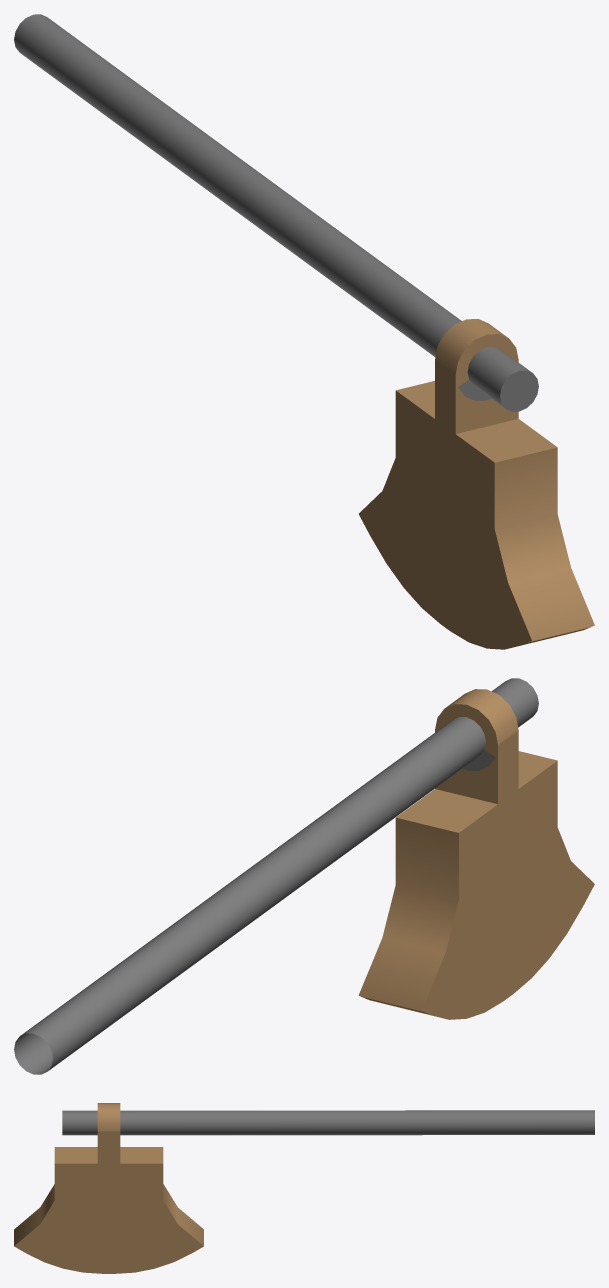
Rendered from axe_01.fbx.
3 views of the same model, one above another, from view 1: azimuth 30°, elevation 25°; view 2: azimuth 150°, elevation 25°; view 3: azimuth 270°, elevation 25° (orthographic). The views are drawn at different scales.
Visible parts, largest first — view 1: axe_01; view 2: axe_01; view 3: axe_01.
Part boxes in pixels (x1=…): axe_01: x1=14, y1=14, x2=594, y2=649; axe_01: x1=14, y1=678, x2=594, y2=1074; axe_01: x1=14, y1=1103, x2=594, y2=1273.
Bounding box in the file's own units: 6.7 × 29.73 × 97.48.
